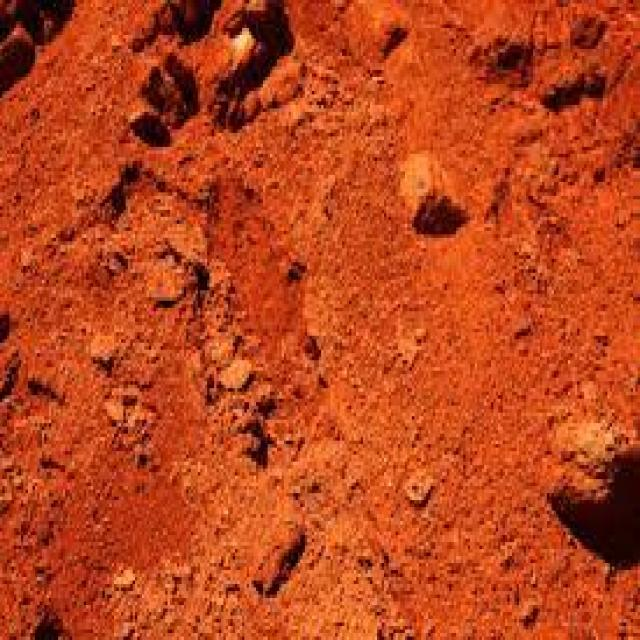Red Soil: (91, 64, 577, 538)
